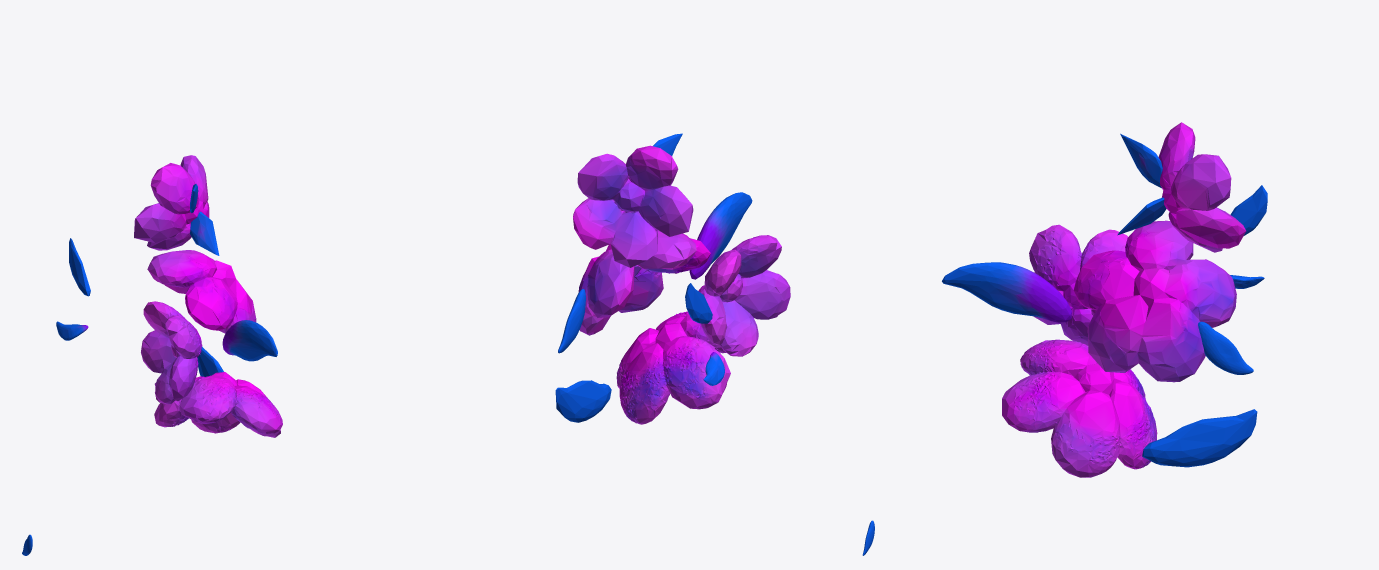
3 views of the same model, side by side, from view 1: azimuth 30°, elevation 25°; view 2: azimuth 150°, elevation 25°; view 3: azimuth 270°, elevation 25° (orthographic). The views are drawn at different scales.
Parts seen in each view (by area): view 1: Sphere 9, Sphere.009, Sphere 10, Sphere 13, Sphere 15; view 2: Sphere 9, Sphere.009, Sphere 10, Sphere 14, Sphere 16, Sphere 15; view 3: Sphere 9, Sphere.009, Sphere 10, Sphere 14, Sphere 16, Sphere 12, Sphere 15, Sphere 13.
Boxes of the visible parts, x1,y1,x2,y2 form: Sphere 9: (134, 155, 256, 333); Sphere.009: (141, 301, 282, 437); Sphere 10: (222, 320, 277, 361); Sphere 13: (190, 211, 219, 255); Sphere 15: (69, 238, 90, 296); Sphere 9: (573, 145, 710, 335); Sphere.009: (616, 235, 790, 424); Sphere 10: (689, 192, 752, 279); Sphere 14: (555, 380, 611, 422); Sphere 16: (558, 289, 585, 353); Sphere 15: (685, 283, 712, 323); Sphere 9: (1073, 122, 1246, 382); Sphere.009: (1002, 224, 1157, 477); Sphere 10: (942, 262, 1071, 322); Sphere 14: (1142, 409, 1257, 467); Sphere 16: (1198, 321, 1253, 374); Sphere 12: (1120, 133, 1162, 188); Sphere 15: (1230, 185, 1267, 235); Sphere 13: (1117, 197, 1166, 235).
Size of the model in its own units: 0.7337 by 0.9476 by 0.7385.
